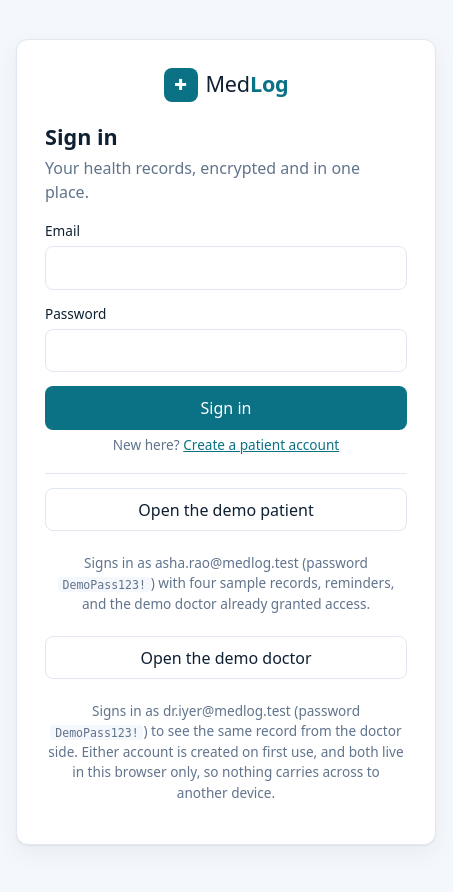
Test: LoginPage › shows the server message when the credentials are rejected
The width and height of the screenshot is (453, 892).
Step 1. Type "asha.rao@medlog.test" into the field labelled "Email" → (226, 268), box [45,246,407,290]
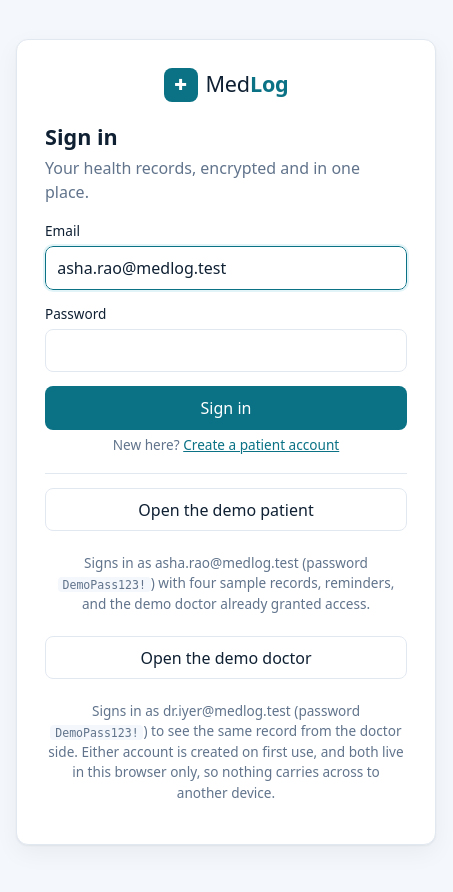
Step 2. Type "WrongPass!" into the password field labelled "Password" → (226, 351), box [45,329,407,372]
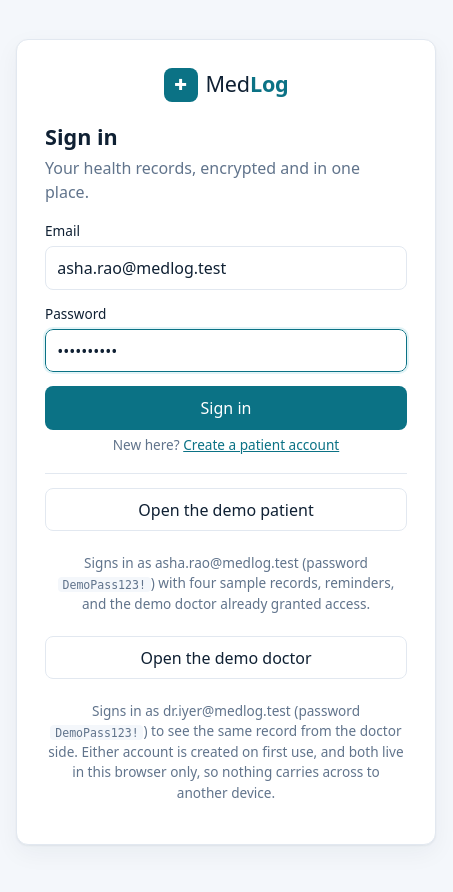
Step 3. Click the button "Sign in" → (226, 408), box [45,386,407,430]
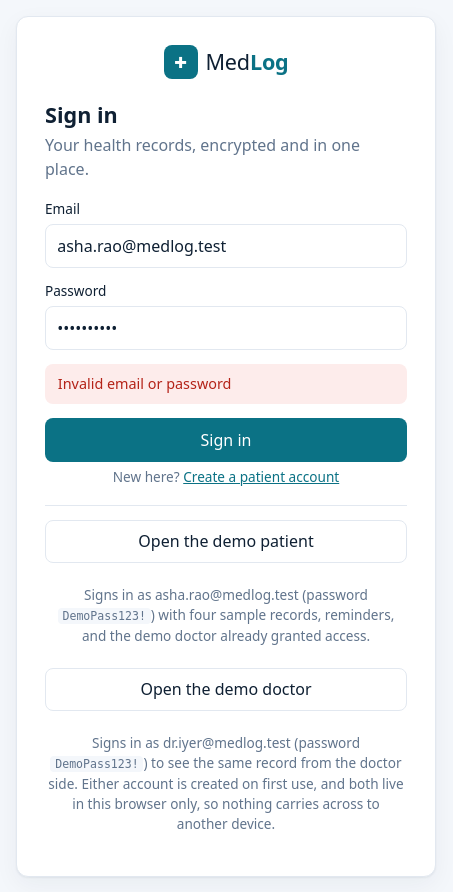
Now the message reads "Invalid email or password", box [58,374,231,393]
